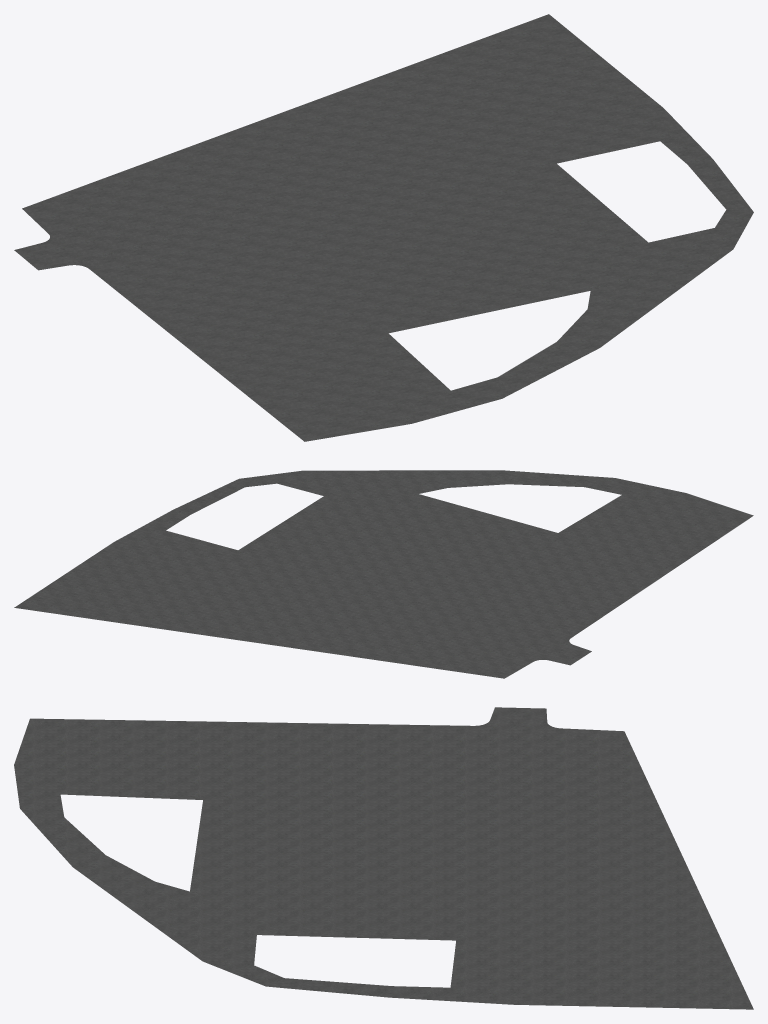
The picture shows the model from 3 angles, top to bottom: view 1: azimuth 30°, elevation 25°; view 2: azimuth 150°, elevation 25°; view 3: azimuth 270°, elevation 25°; orthographic projection. The views are drawn at different scales.
Visible parts, largest first — view 1: LD_DM07; view 2: LD_DM07; view 3: LD_DM07.
Part boxes in pixels (x1,y1,x2,y2): LD_DM07: (14, 14, 753, 441); LD_DM07: (14, 470, 753, 678); LD_DM07: (14, 707, 753, 1009).
Size of the model in its own units: 21512 by 6.3e-12 by 22254.
1 material, 1 textured.
